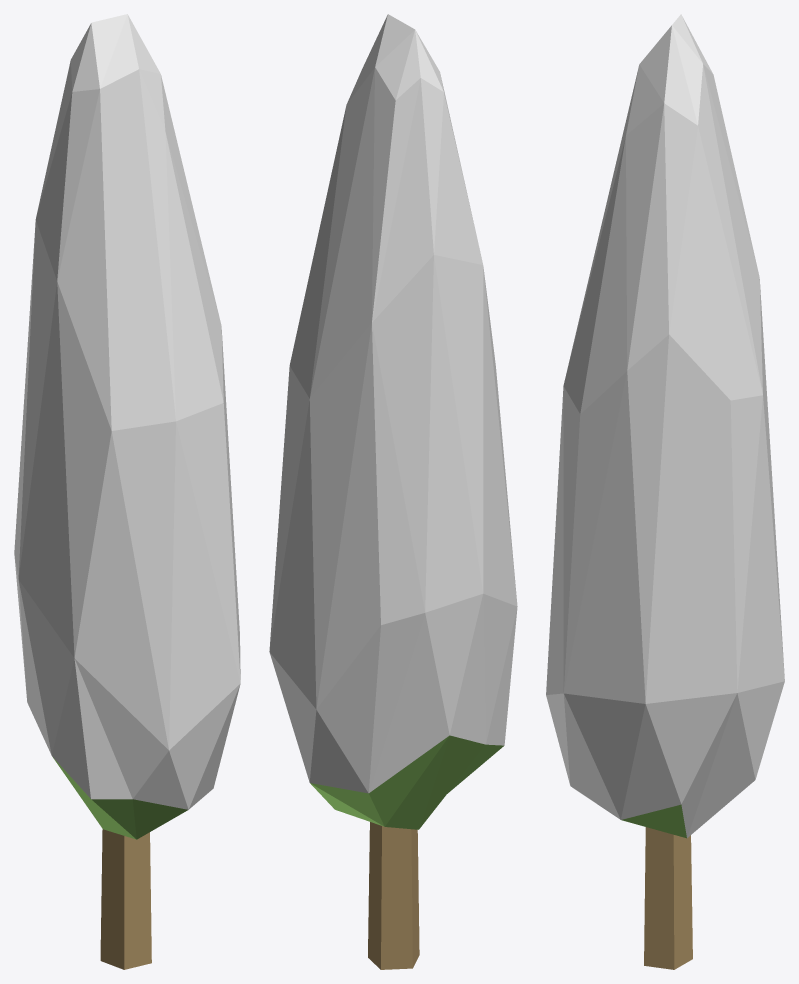
Rendered from Thuja_Tree_m_Snow_02.fbx.
3 renders of one model, left to right at view 1: azimuth 30°, elevation 25°; view 2: azimuth 150°, elevation 25°; view 3: azimuth 270°, elevation 25°, orthographic.
Visible parts, largest first — view 1: Thuja_Tree_m_Snow_02; view 2: Thuja_Tree_m_Snow_02; view 3: Thuja_Tree_m_Snow_02.
Boxes of the visible parts, x1,y1,x2,y2 form: Thuja_Tree_m_Snow_02: (14,14,240,969); Thuja_Tree_m_Snow_02: (269,14,517,969); Thuja_Tree_m_Snow_02: (546,14,784,969).
Size of the model in its own units: 114 by 511 by 118.
